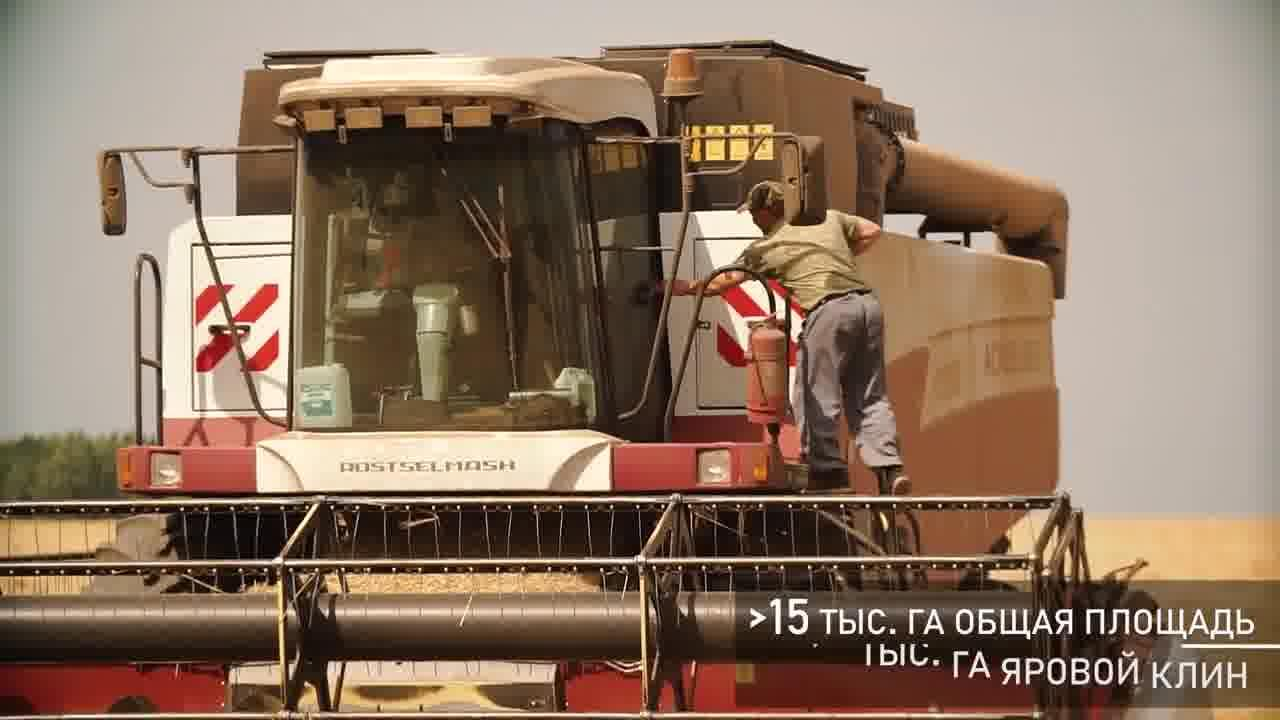combine harvester: (0, 0, 1195, 720)
